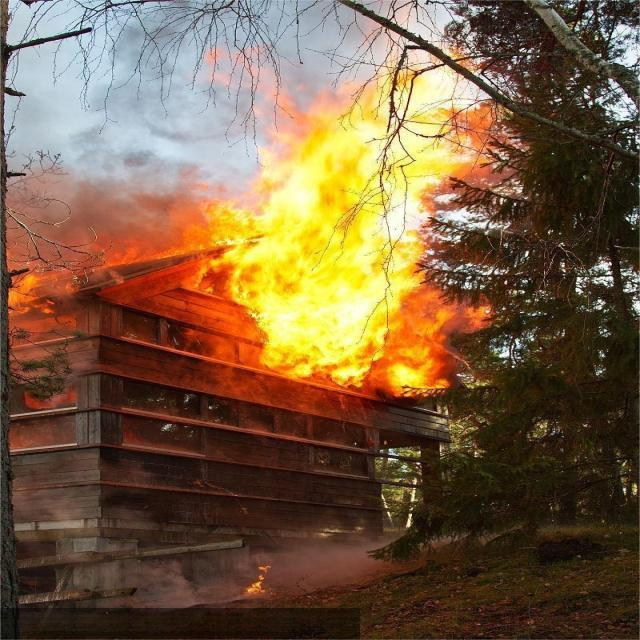Fire: (217, 77, 481, 392)
